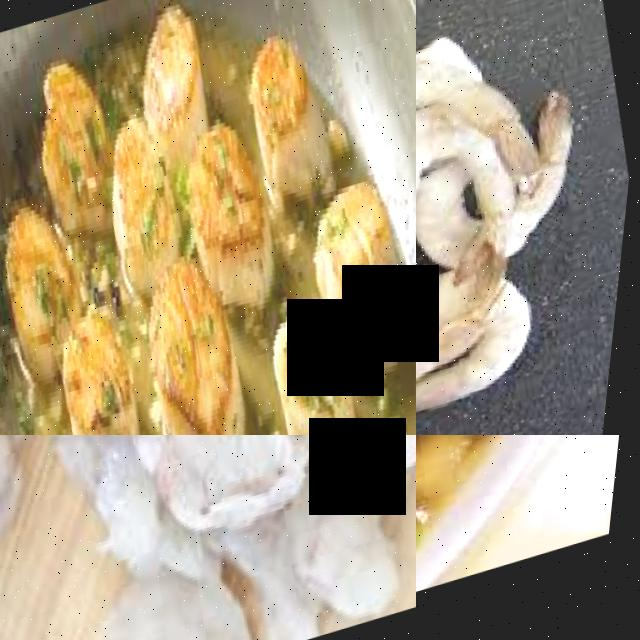sea scallops: (123, 246, 278, 435), (171, 113, 297, 315), (301, 174, 416, 388), (230, 24, 349, 212), (88, 111, 194, 290), (256, 299, 379, 435), (122, 0, 221, 144), (49, 322, 171, 435)
shrimp: (416, 21, 578, 226), (116, 435, 326, 568), (87, 551, 273, 640), (266, 435, 416, 515)
